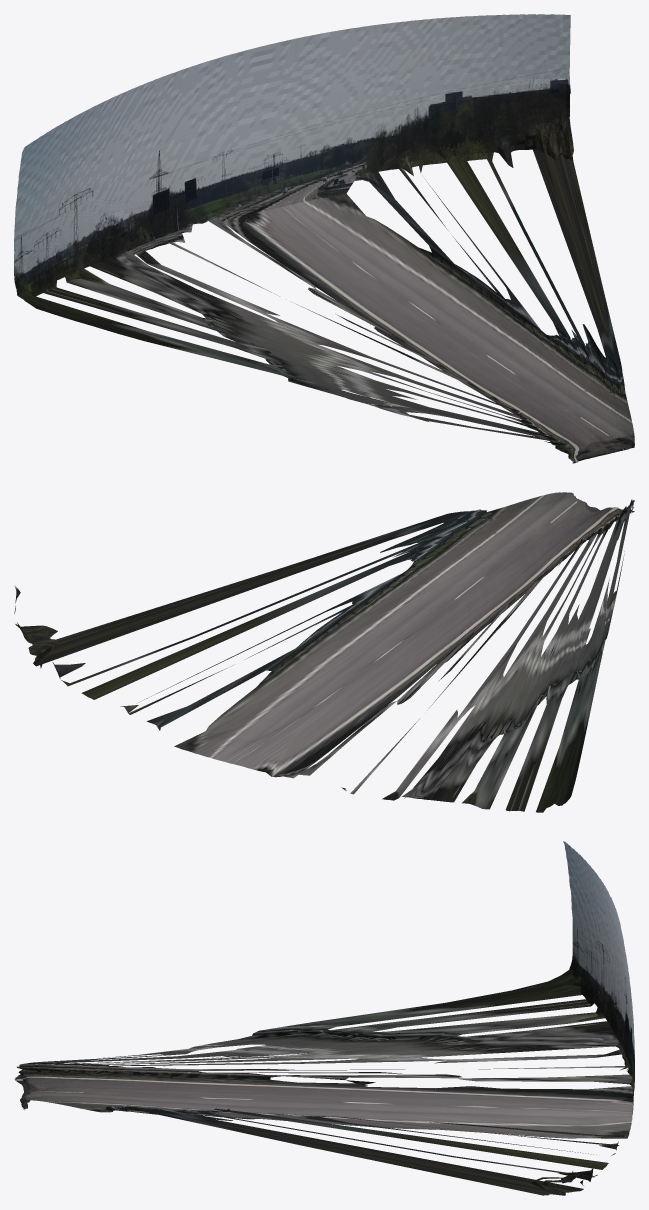
3 views of the same model, one above another, from view 1: azimuth 30°, elevation 25°; view 2: azimuth 150°, elevation 25°; view 3: azimuth 270°, elevation 25° (orthographic). The views are drawn at different scales.
Visible parts, largest first — view 1: defaultobject; view 2: defaultobject; view 3: defaultobject.
Part boxes in pixels (box(x1,y1,x2,y2)): defaultobject: box(14, 14, 634, 463); defaultobject: box(14, 492, 634, 812); defaultobject: box(14, 841, 634, 1195).
Size of the model in its own units: 41.09 by 12.71 by 44.71.
Materials: 1 (1 with a texture image).
